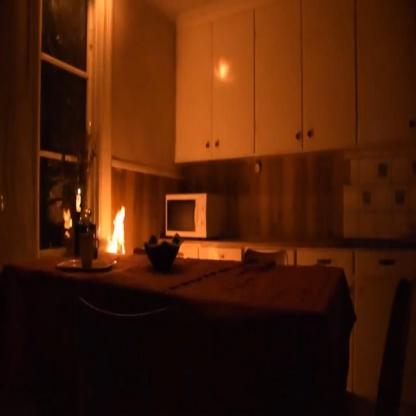fire: (104, 200, 129, 256), (77, 186, 82, 196)
